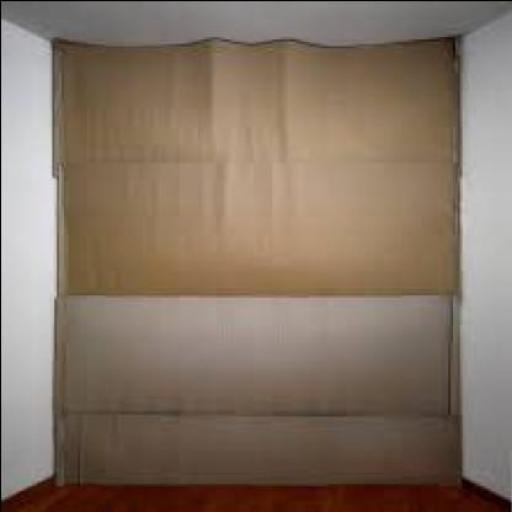cardboard: (54, 30, 464, 482)
